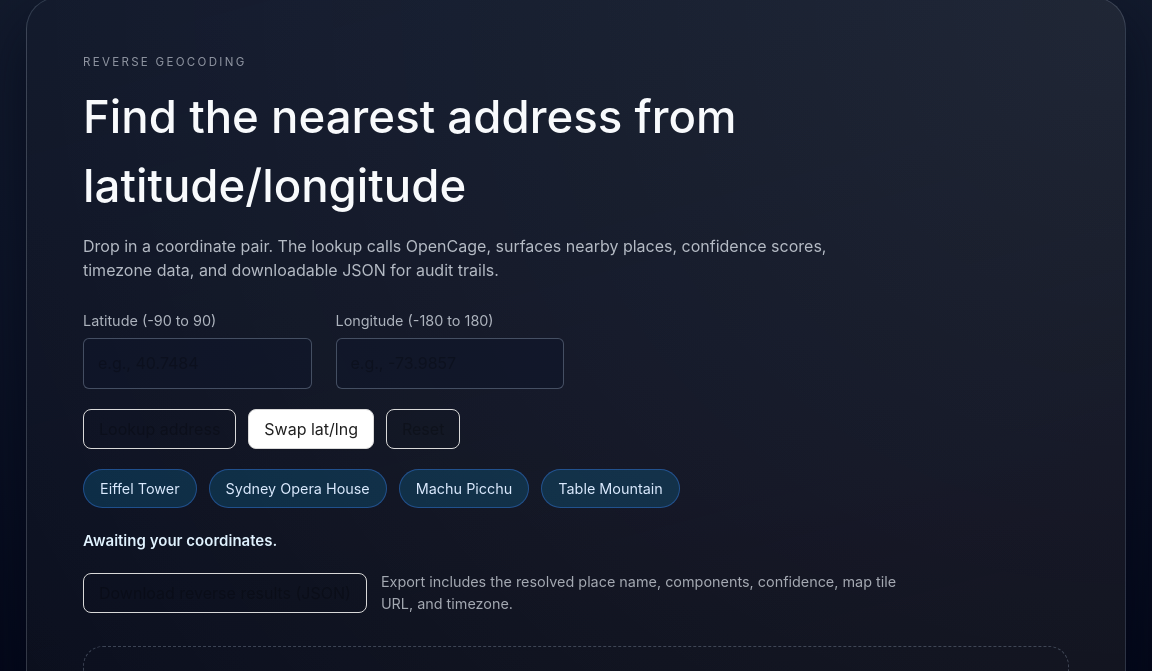
Test: ReverseGeocodeDemo › rejects non-numeric coordinates (negative)
The width and height of the screenshot is (1152, 671).
Type "abc" into the field labelled "Latitude (-90 to 90)" at (197, 363), box [83, 338, 312, 389]
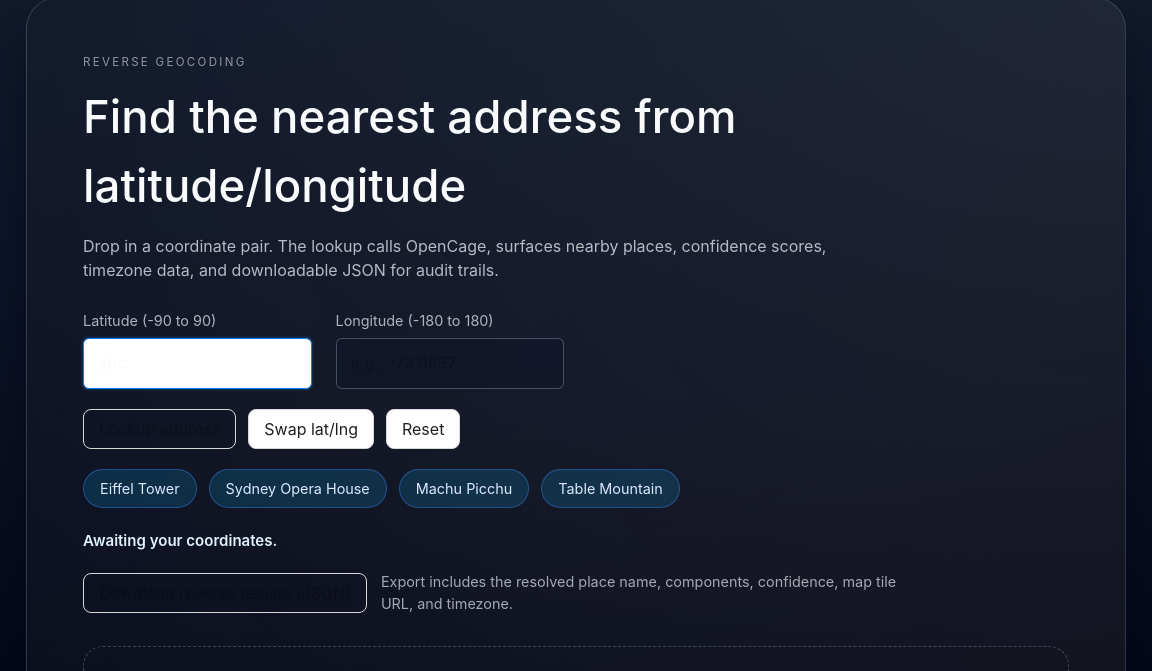
Type "10" into the field labelled "Longitude (-180 to 180)" at (450, 363), box [336, 338, 564, 389]
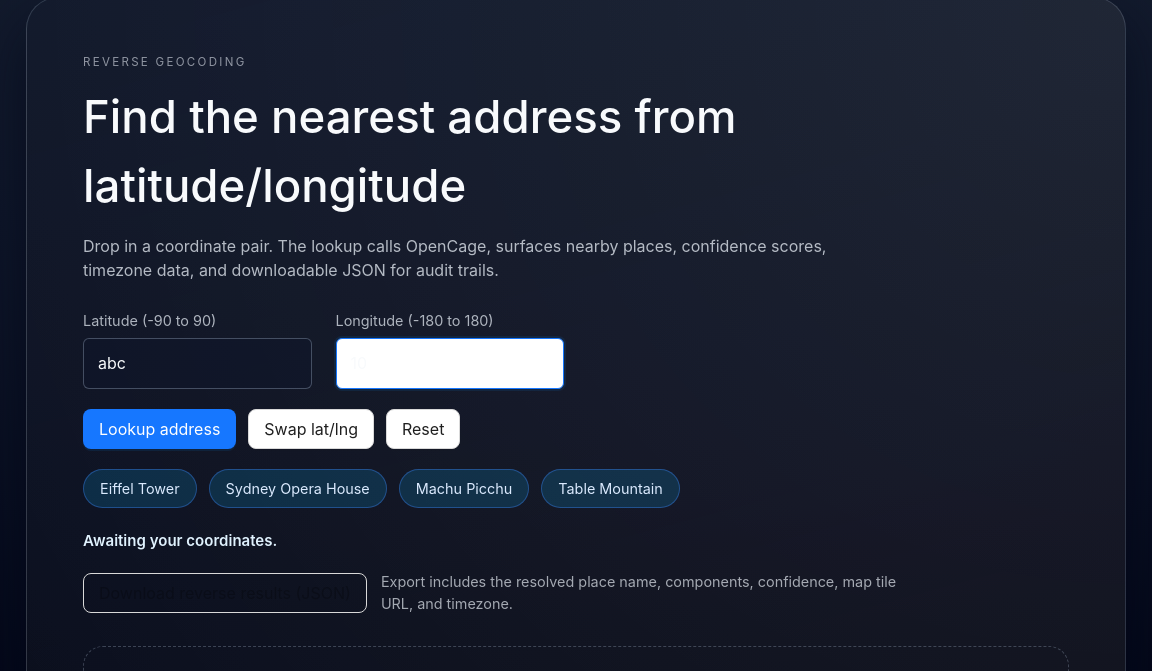
Click the button "Lookup address" at (160, 429), box [83, 409, 236, 449]
(page scrolled)
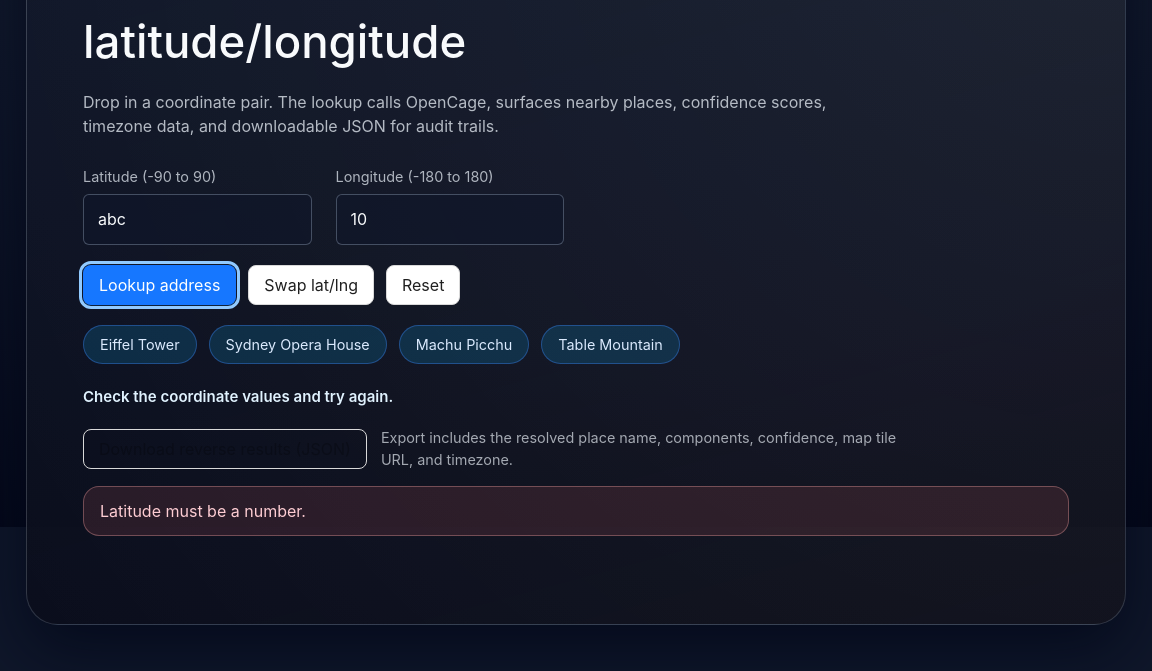
Result: the text "Latitude must be a number." is shown at [83, 486, 1069, 536]
